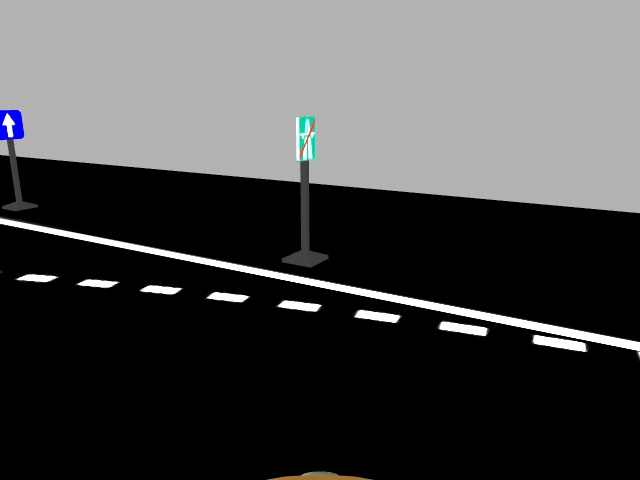HighwayExit: (292, 114, 314, 163)
OneWay: (0, 107, 27, 144)
